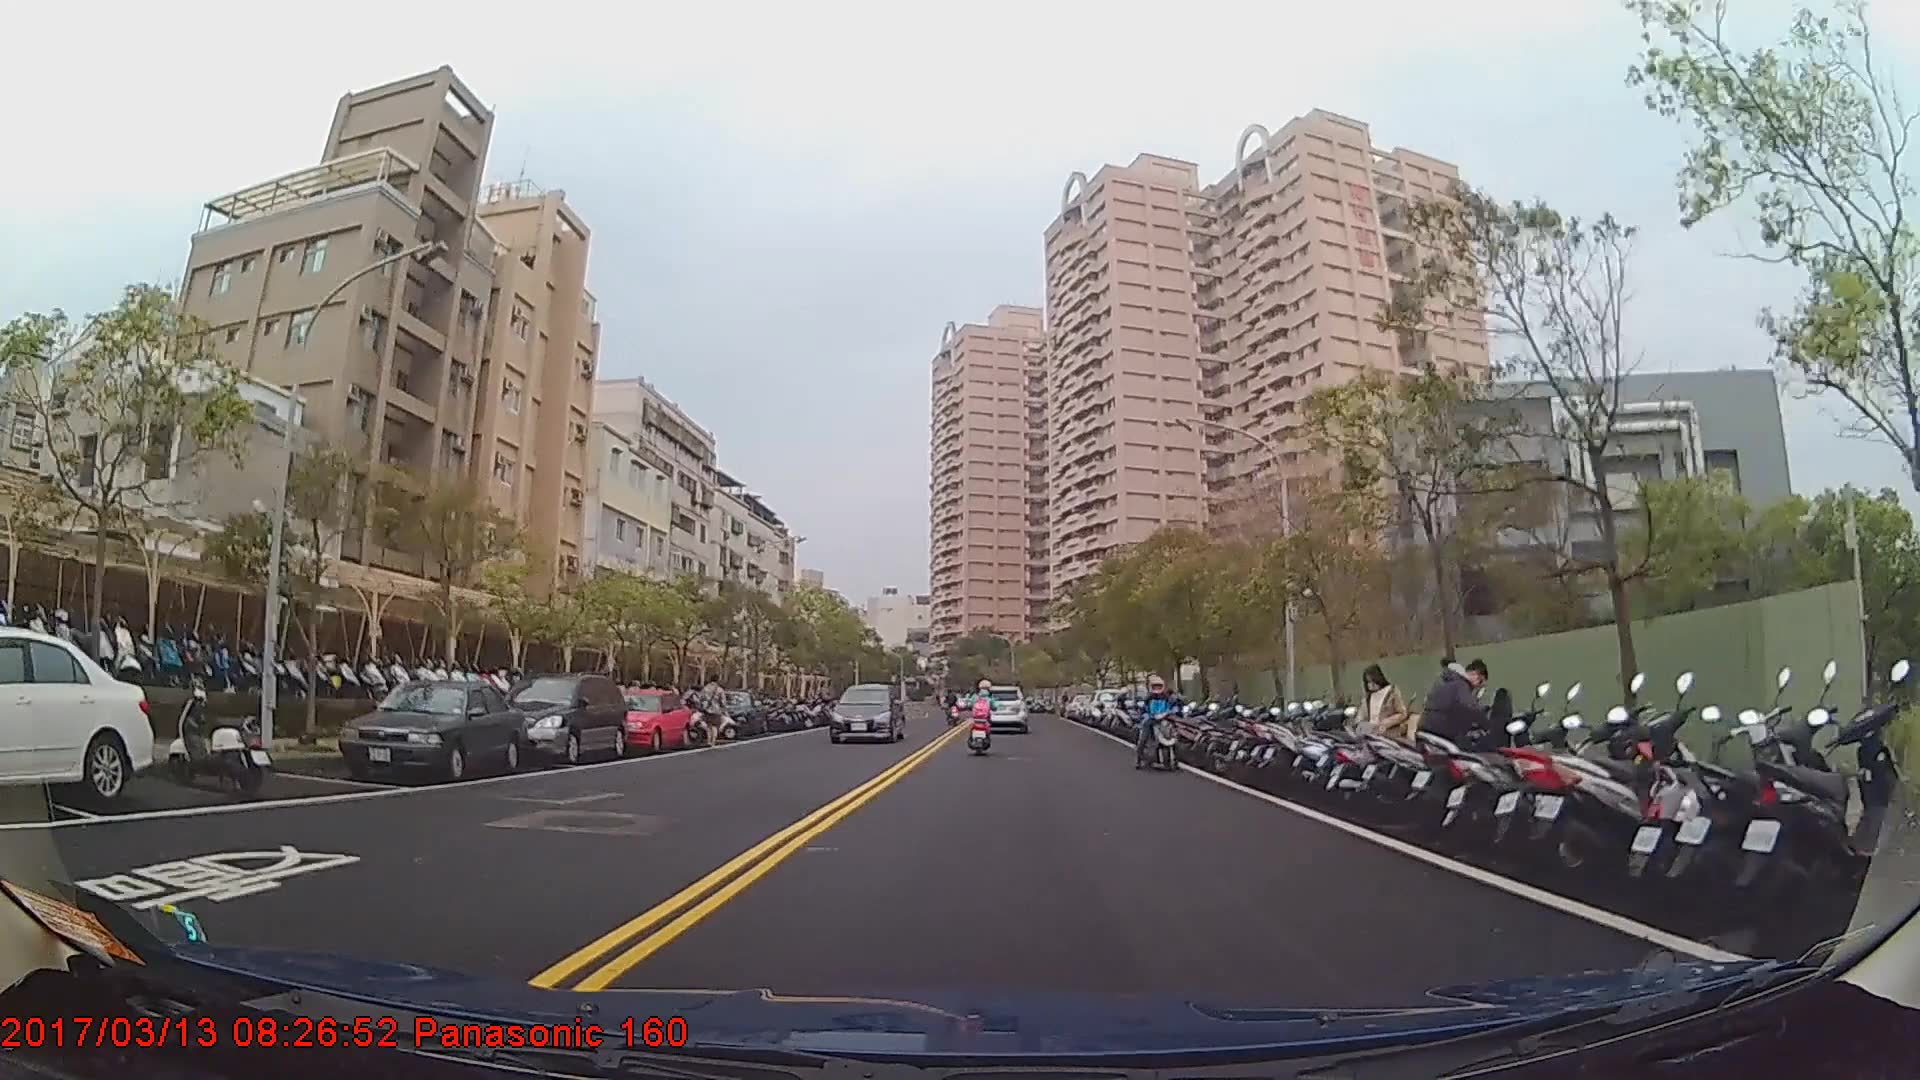pedestrian: (1416, 653, 1501, 830), (1355, 664, 1416, 816), (1438, 659, 1473, 762), (698, 675, 730, 750)
rider: (1132, 674, 1181, 771), (966, 682, 998, 753)
vehicle: (0, 626, 156, 803), (335, 677, 522, 781), (491, 671, 627, 765), (600, 687, 694, 753), (829, 682, 904, 744), (974, 682, 1028, 734)
